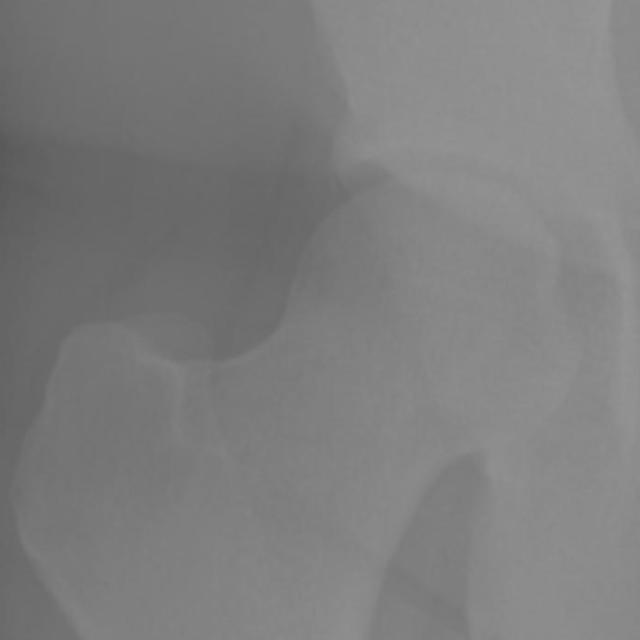Fitted_femural_head: (289, 173, 432, 289)
